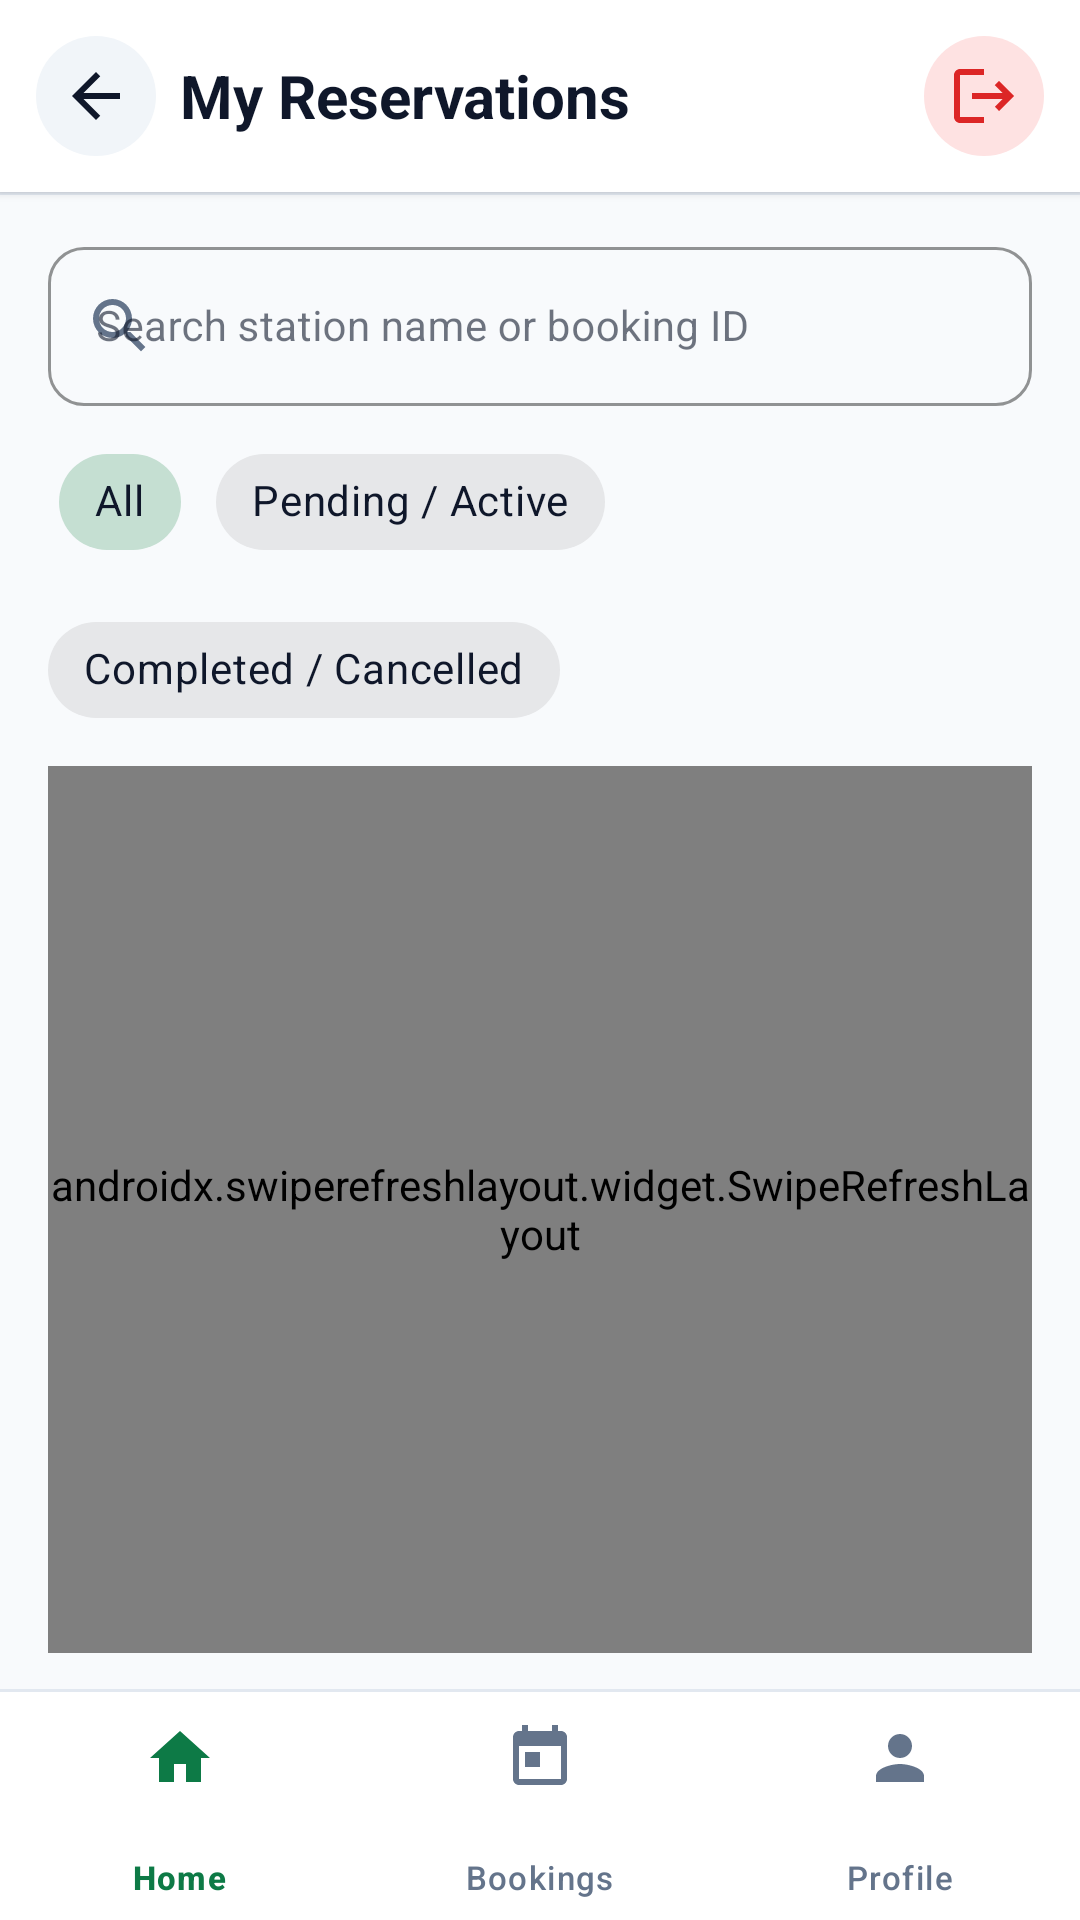

Icons on this 1080w x 1920h Android screen, each with its box as (x1, y1, x2, y2):
Back: (36, 36, 156, 156)
